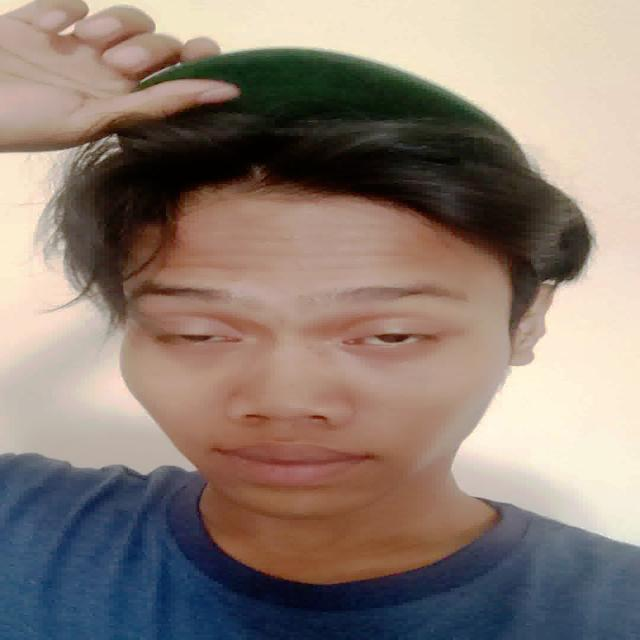TOPI: (121, 45, 522, 135)
